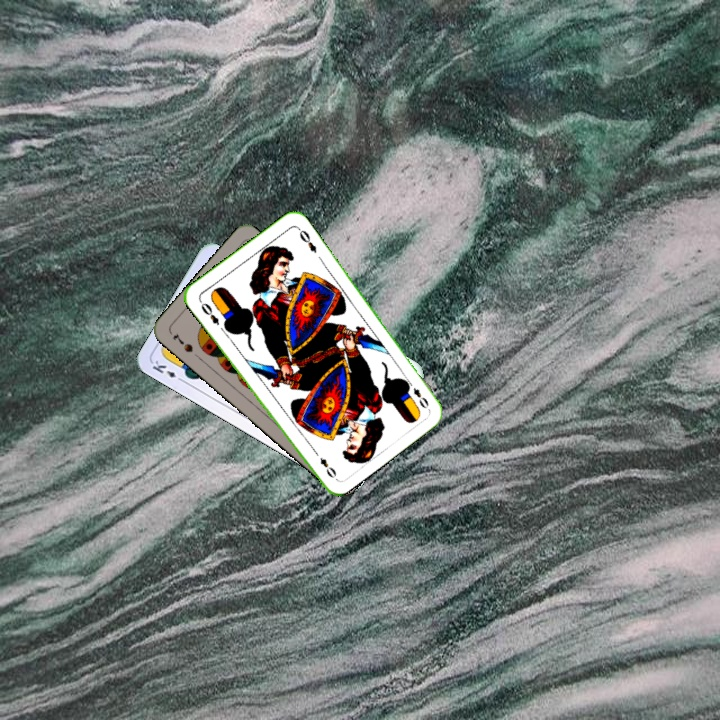EK: (148, 356, 186, 385)
EO: (402, 376, 432, 411), (195, 296, 222, 328)
S7: (169, 329, 196, 355)
